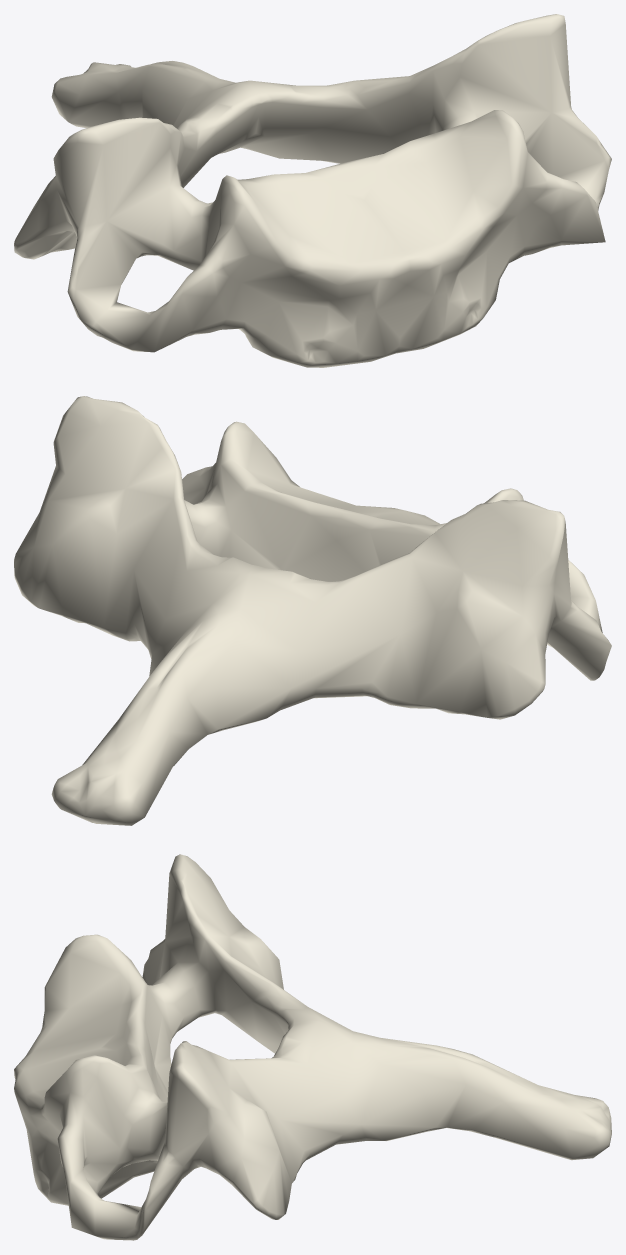
3 renders of one model, top to bottom at view 1: azimuth 30°, elevation 25°; view 2: azimuth 150°, elevation 25°; view 3: azimuth 270°, elevation 25°, orthographic. The views are drawn at different scales.
Visible parts, largest first — view 1: ZA_8a947f4284315cbe; view 2: ZA_8a947f4284315cbe; view 3: ZA_8a947f4284315cbe.
Part boxes in pixels (x1,y1,x2,y2): ZA_8a947f4284315cbe: (14, 14, 611, 367); ZA_8a947f4284315cbe: (14, 396, 611, 825); ZA_8a947f4284315cbe: (14, 854, 611, 1240).
Size of the model in its own units: 0.0613 by 0.0246 by 0.0636.
